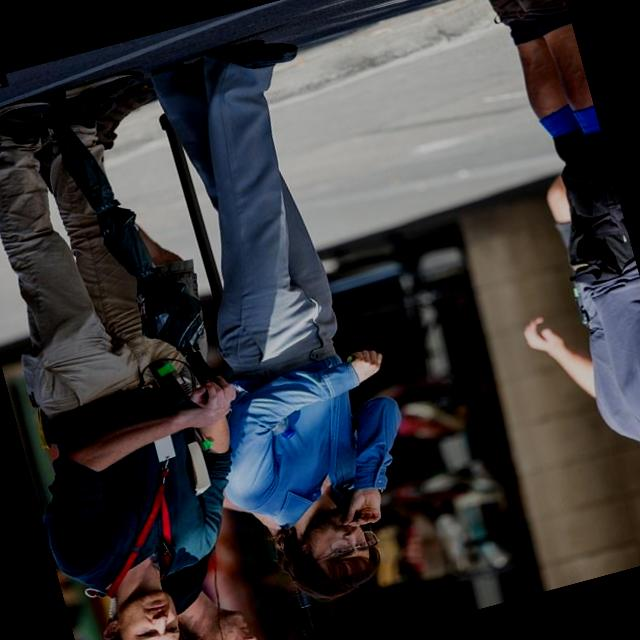cigarette: (335, 512, 371, 536)
